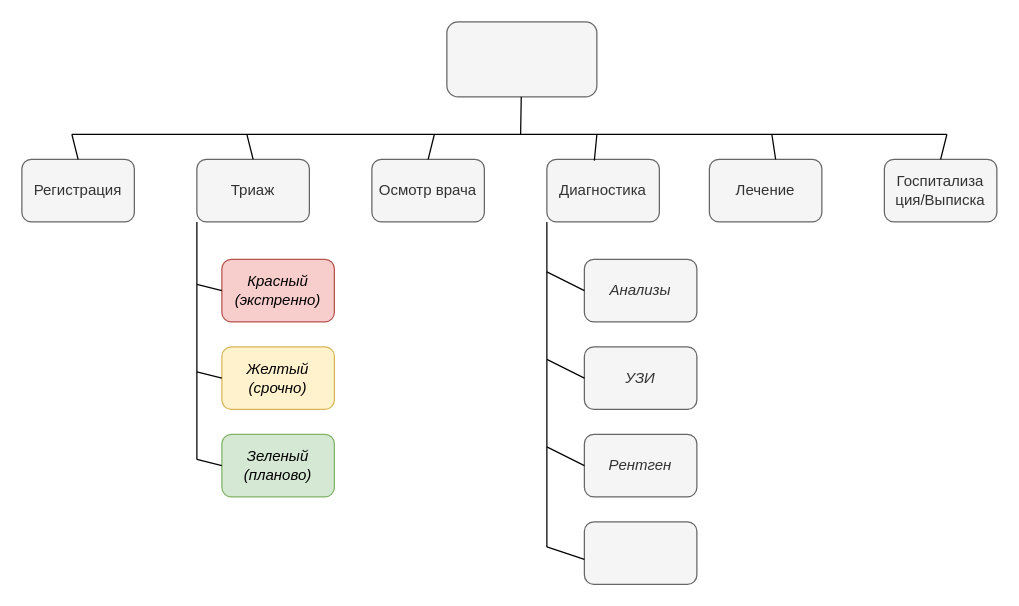
This 1019x606 diagram has some shape labels left out. The centre of each missing label's shape, as x and y in pixels:
Приемный покой: the point at 521,59
ЭКГ: the point at 640,552
